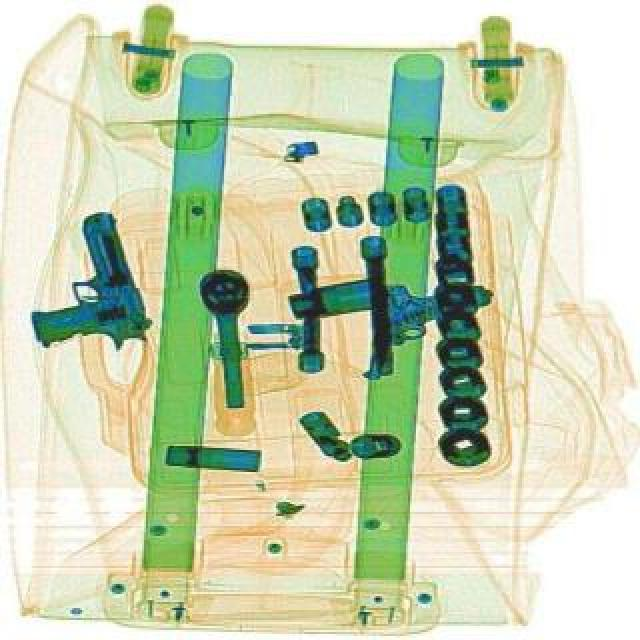gun: (2, 206, 154, 368), (360, 272, 490, 392)
